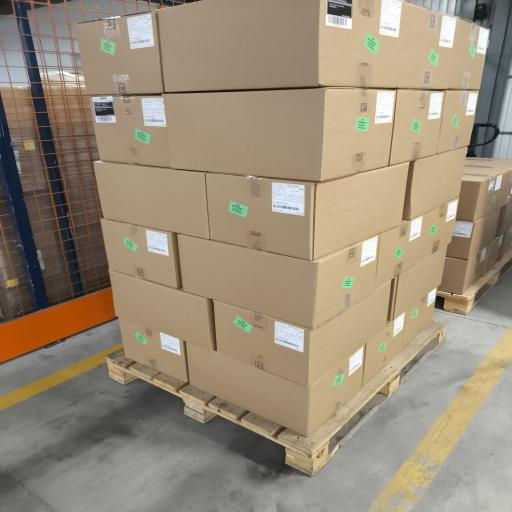pallet: (107, 320, 447, 475), (437, 250, 511, 314)
